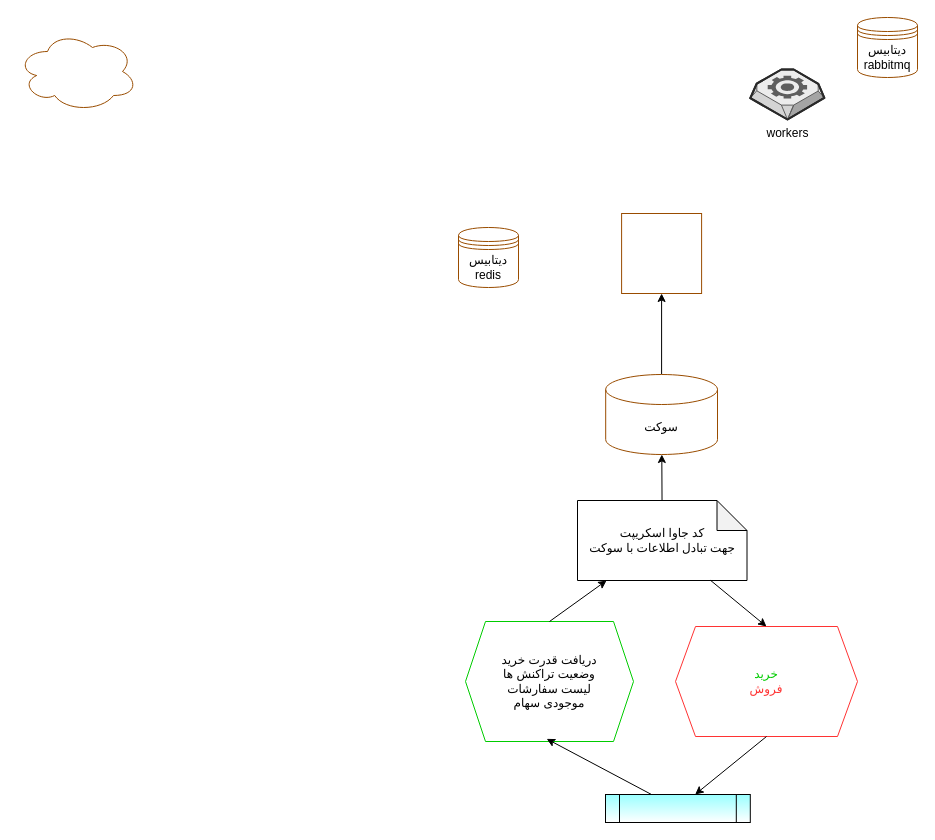
The diagram is 935 pixels wide and 840 high, and some of its shapes have lost their labels. Here are the shapes that lost their labels. From the top down, the centre of each, then its label:
At point 77,71: "دارایکم".
At point 661,253: "مغز".
At point 677,808: "مفید آنلاین".
